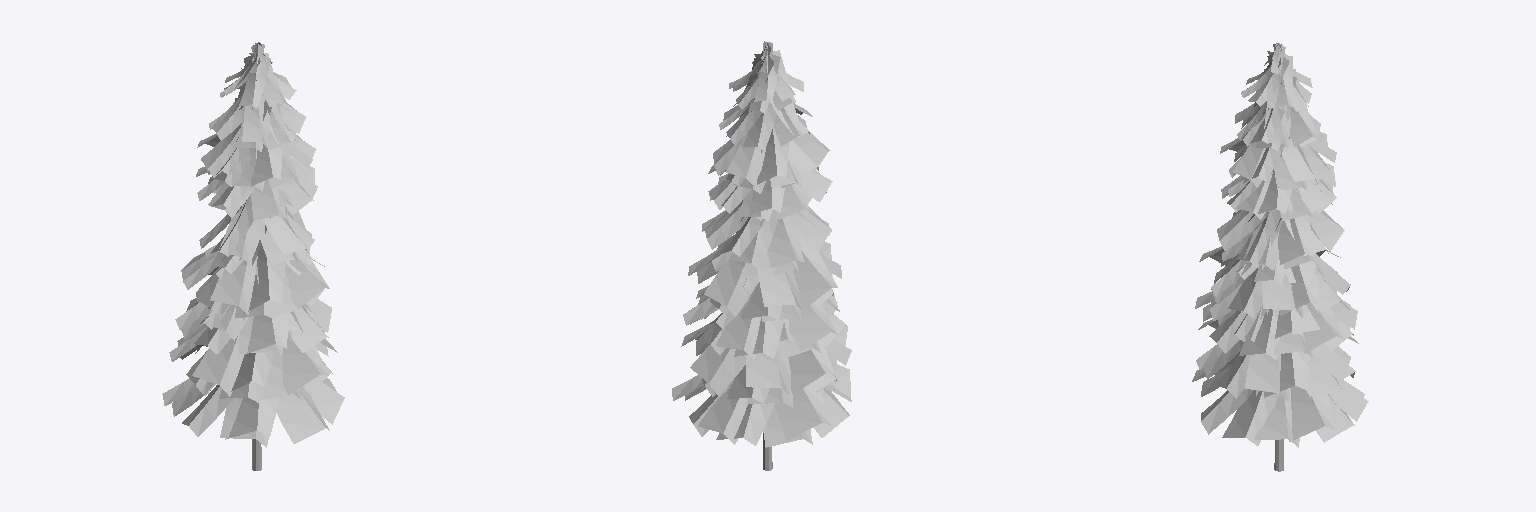
Rendered from Tree07.obj.
3 renders of one model, left to right at view 1: azimuth 30°, elevation 25°; view 2: azimuth 150°, elevation 25°; view 3: azimuth 270°, elevation 25°, orthographic.
Visible parts, largest first — view 1: Cylinder.004; view 2: Cylinder.004; view 3: Cylinder.004.
Part boxes in pixels (x1,y1,x2,y2): Cylinder.004: (162,42,344,470); Cylinder.004: (672,41,851,470); Cylinder.004: (1192,43,1368,471).
Bounding box in the file's own units: 2.9 × 7.6 × 2.86.